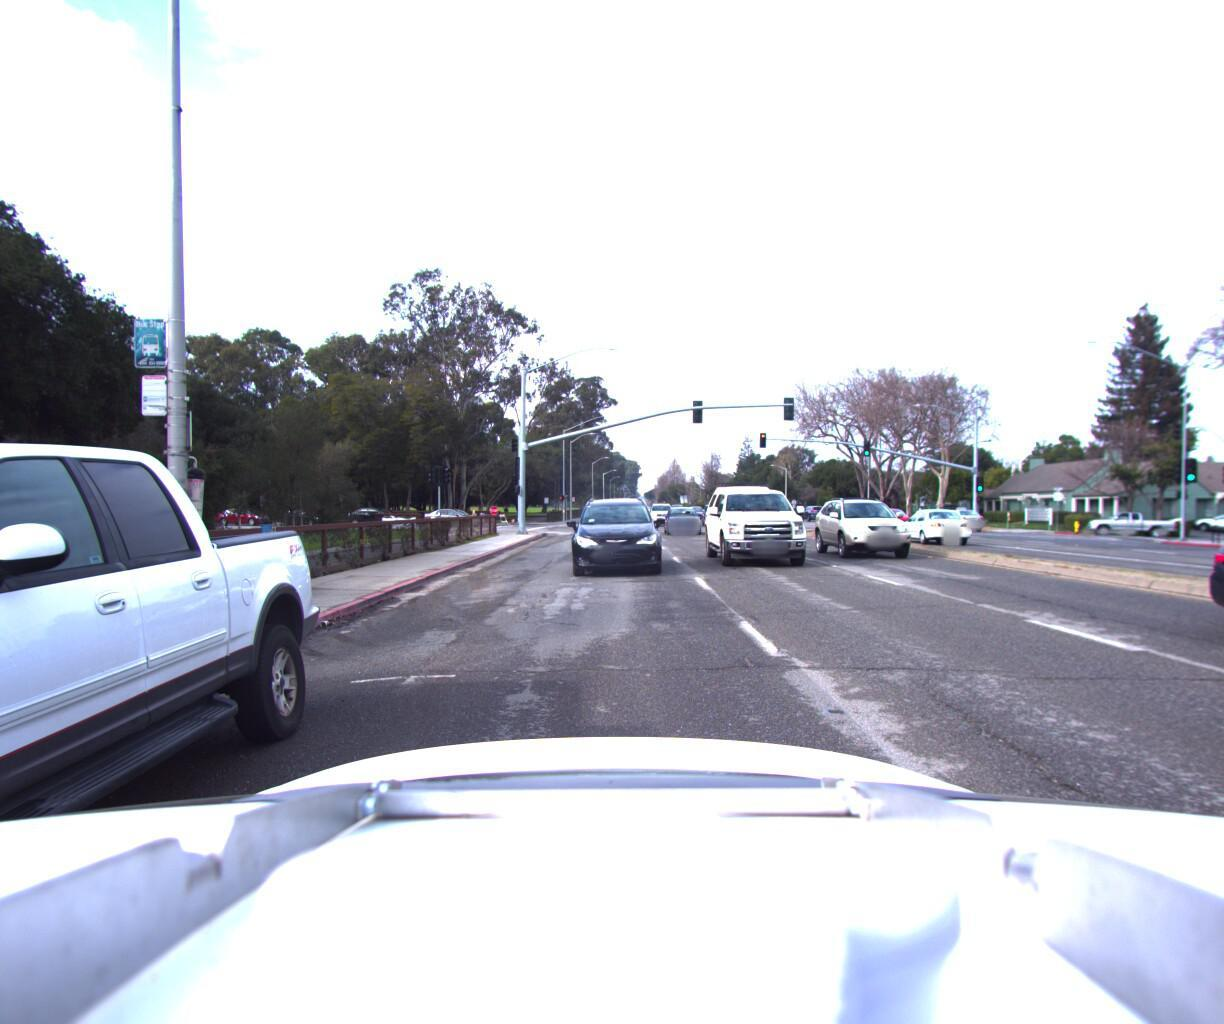car: (0, 268, 340, 1024), (705, 471, 824, 574), (819, 488, 940, 560), (570, 492, 659, 576), (894, 503, 973, 542), (1077, 509, 1177, 534), (664, 495, 707, 532), (934, 506, 979, 527), (644, 496, 672, 521), (1194, 511, 1224, 533), (1219, 506, 1224, 554)
